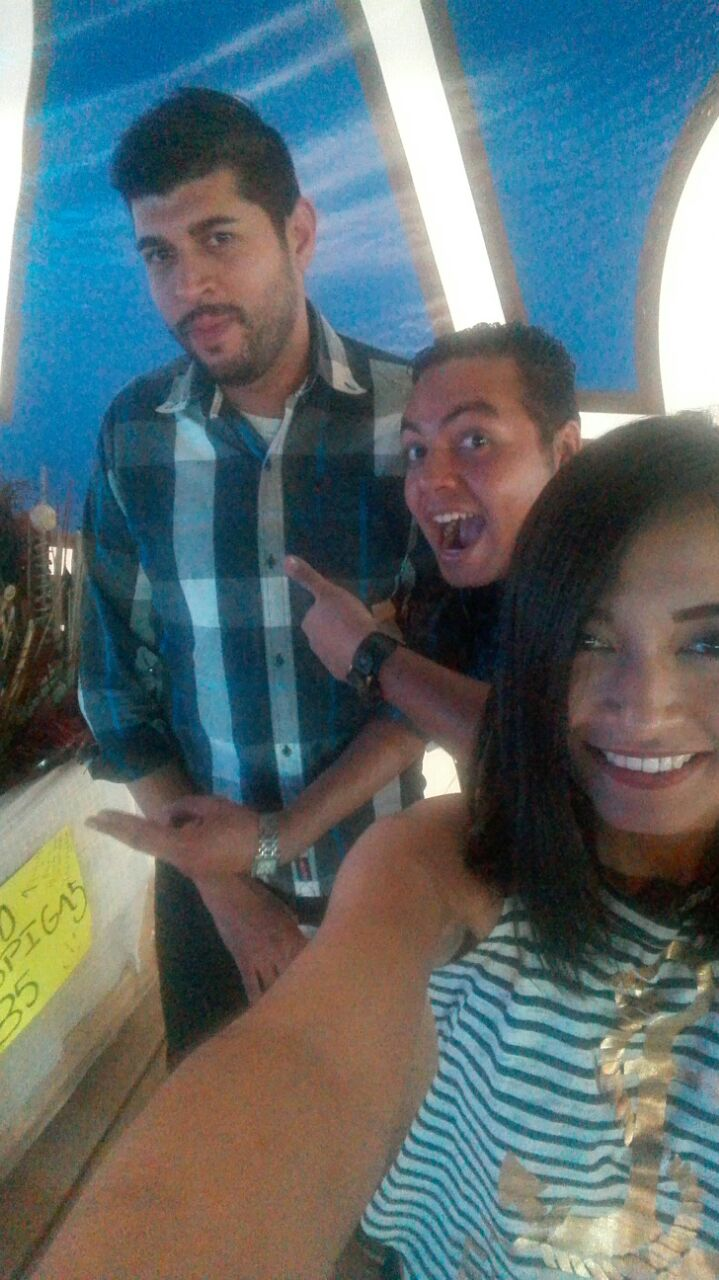Yoshi: (362, 275, 554, 577)
